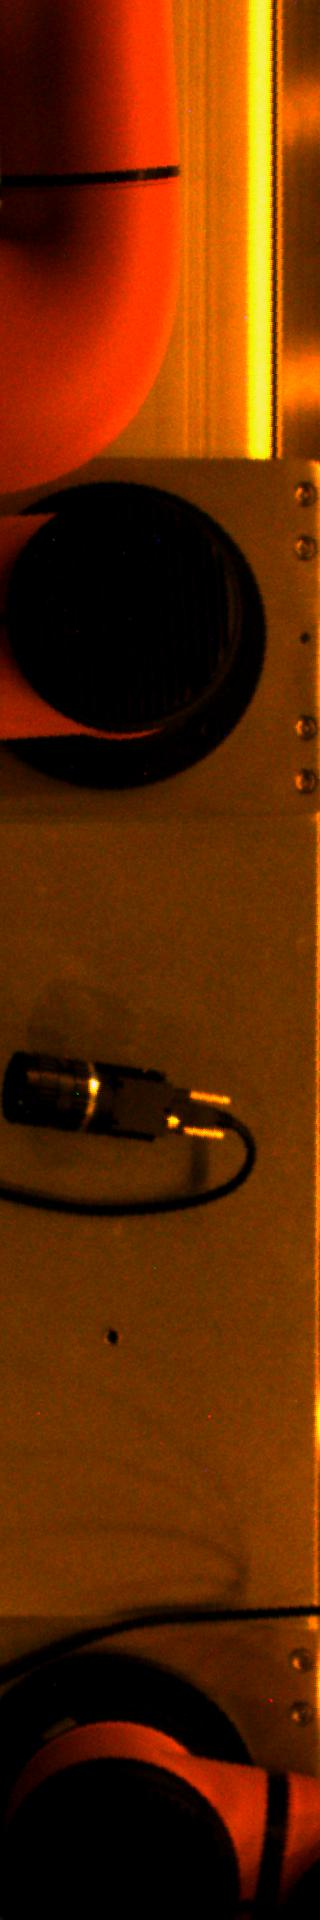keyPoint_2: (97, 1321, 128, 1351)
